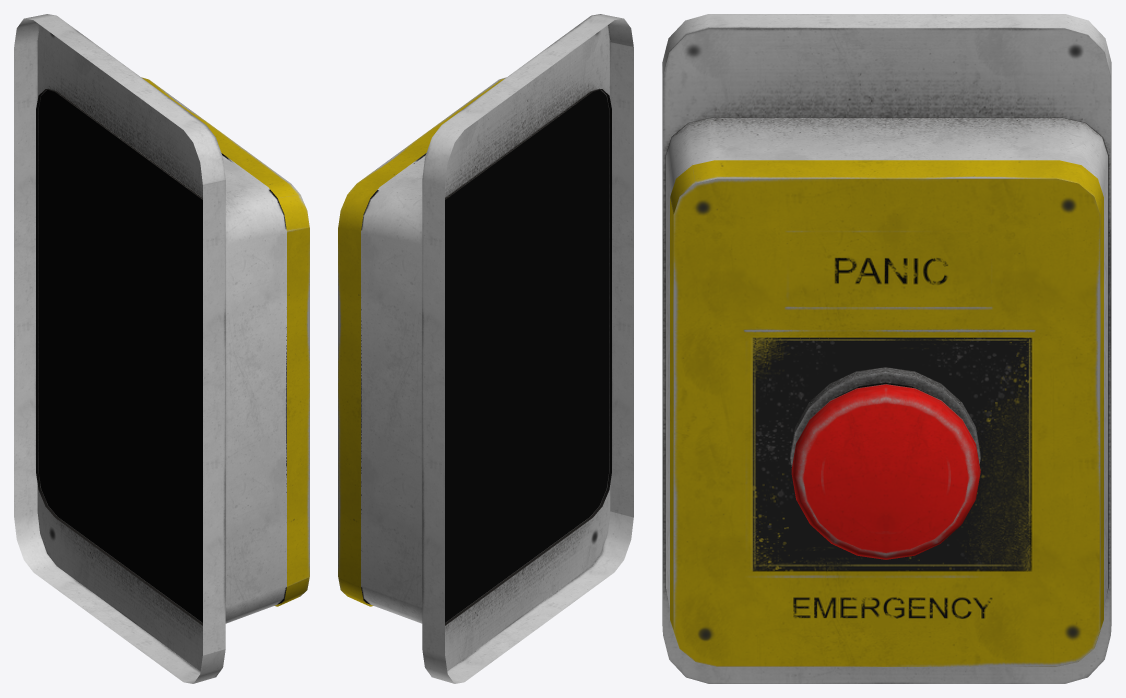
File: boton2.glb
The picture shows the model from 3 angles, left to right: view 1: azimuth 30°, elevation 25°; view 2: azimuth 150°, elevation 25°; view 3: azimuth 270°, elevation 25°; orthographic projection. The views are drawn at different scales.
Parts seen in each view (by area): view 1: Object_2; view 2: Object_2; view 3: Object_2.
Boxes of the visible parts, x1,y1,x2,y2 form: Object_2: (14,14,309,683); Object_2: (338,14,633,683); Object_2: (662,14,1111,683).
Size of the model in its own units: 1.4 by 4.78 by 2.96.
1 material, 1 textured.
